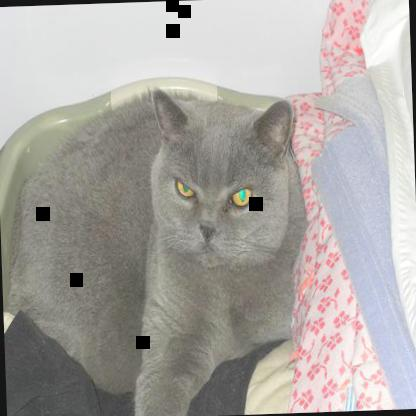cat: (0, 81, 314, 415)
